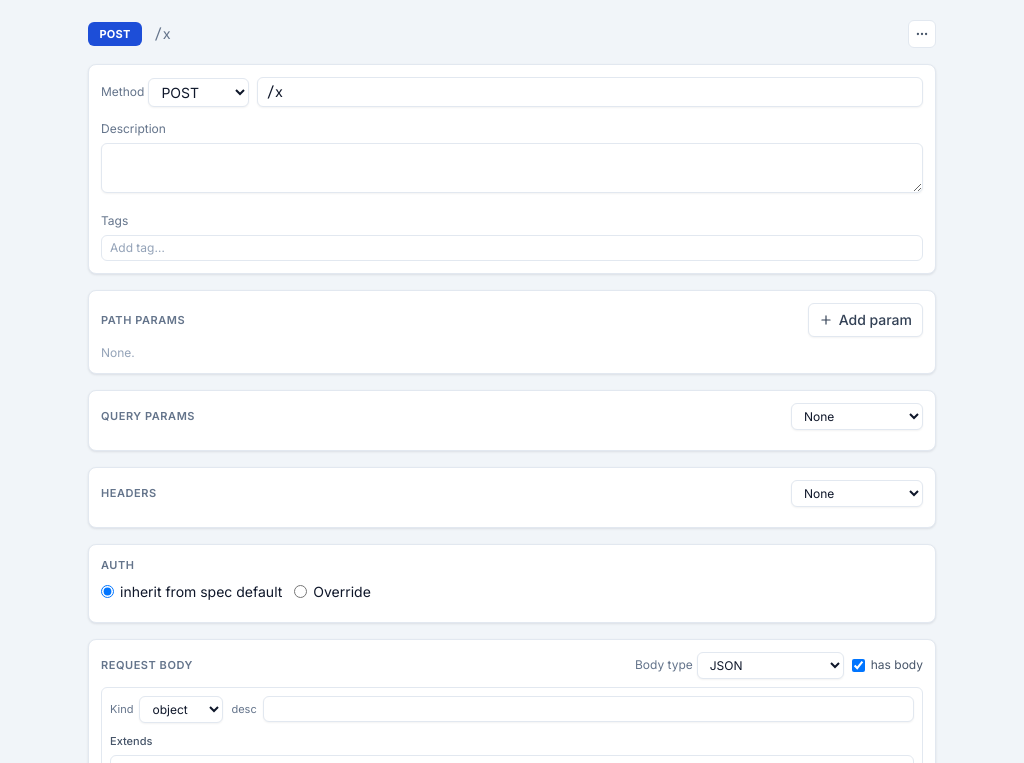
Test: switching from JSON to urlencoded clears requestBody and shows the form-fields editor
The width and height of the screenshot is (1024, 763).
Select "URL-encoded form" in the dropdown labelled "Body type" at (770, 665), box [697, 652, 844, 678]
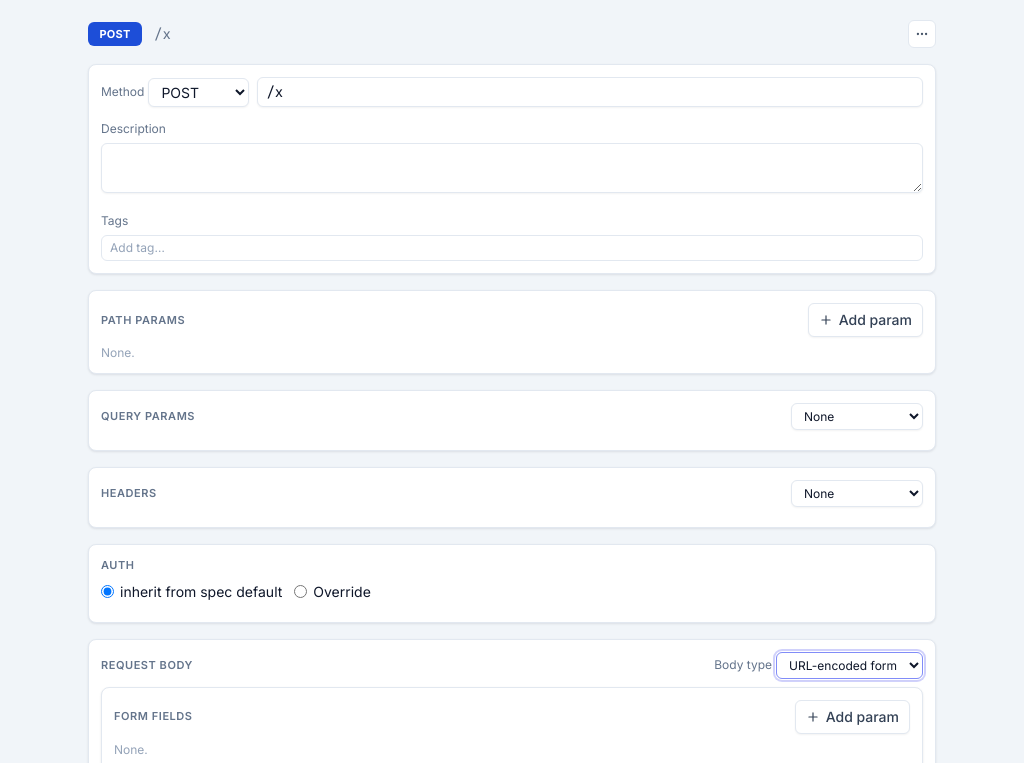
Now the heading "Form fields" is shown, box [114, 708, 193, 725]
